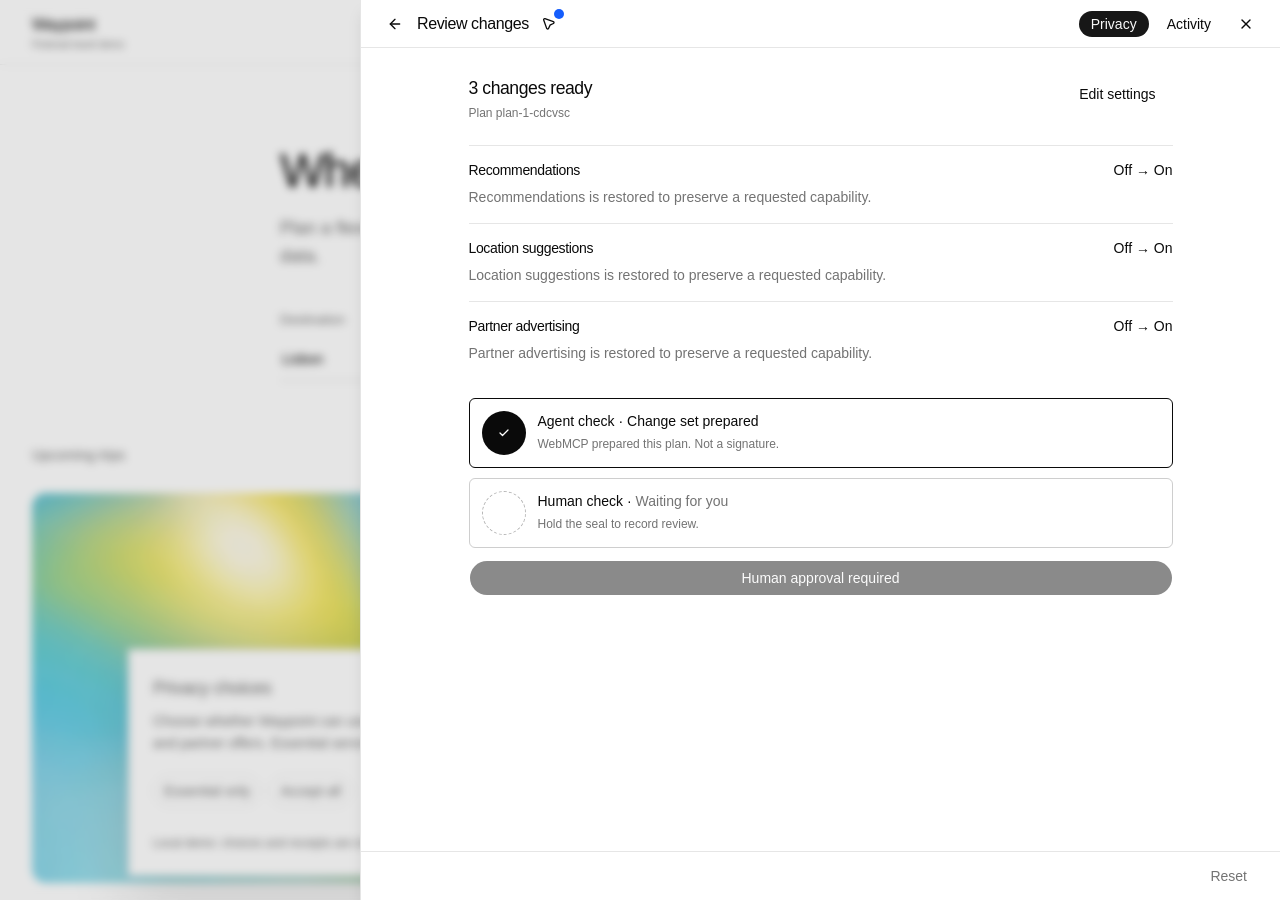
Scenario: privacy settings UI › keeps the agent check when returning to an unchanged plan and revokes it after an edit
The image size is (1280, 900).
Expected: the text "Change set prepared" is shown, [627,413,758,429]
Click the button named "Back": {"x": 395, "y": 24} [381,10,409,38]
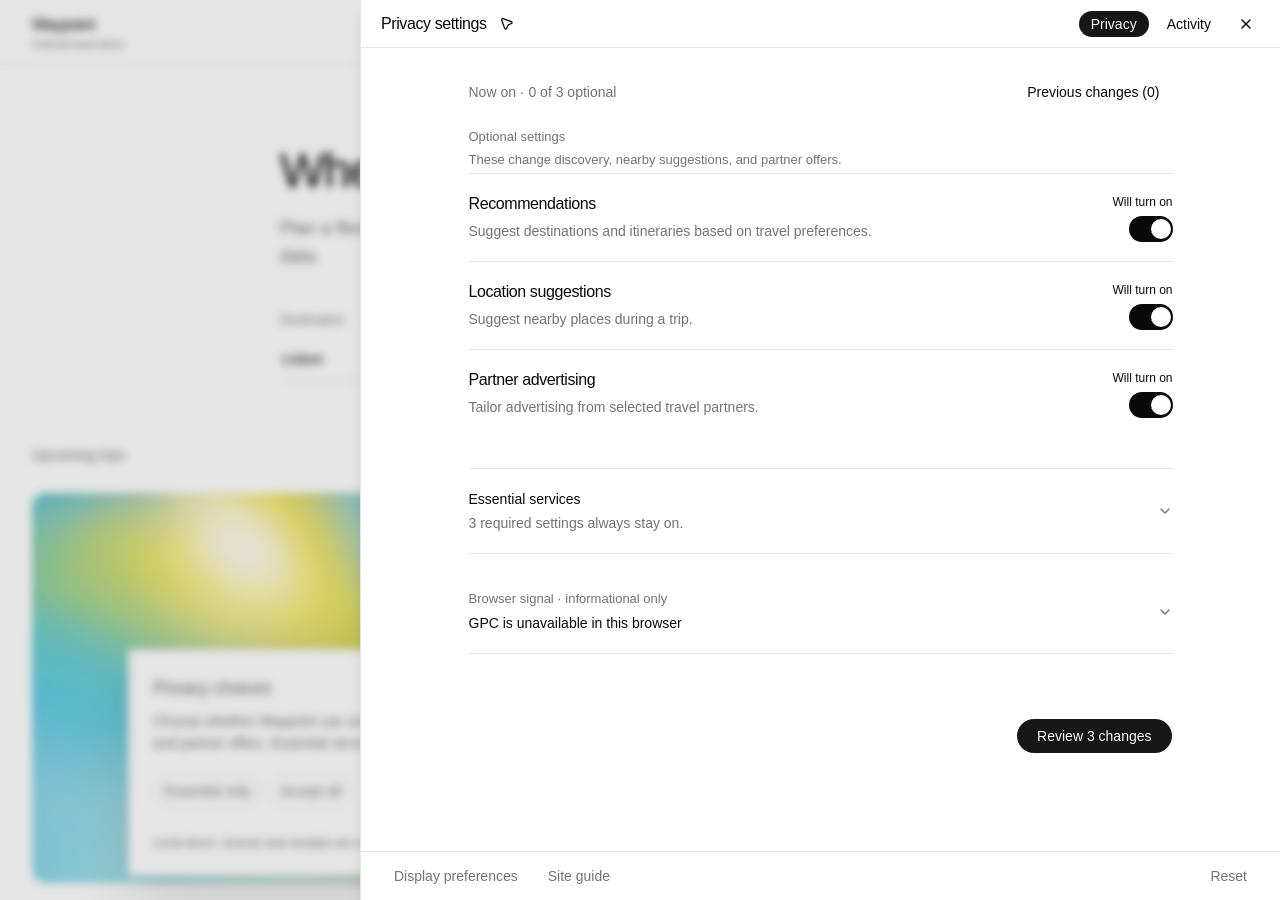
Result: the heading "Privacy settings" is shown at [381,12,487,36]
Click the button "Review 3 changes": {"x": 1094, "y": 736} [1016,718,1172,754]
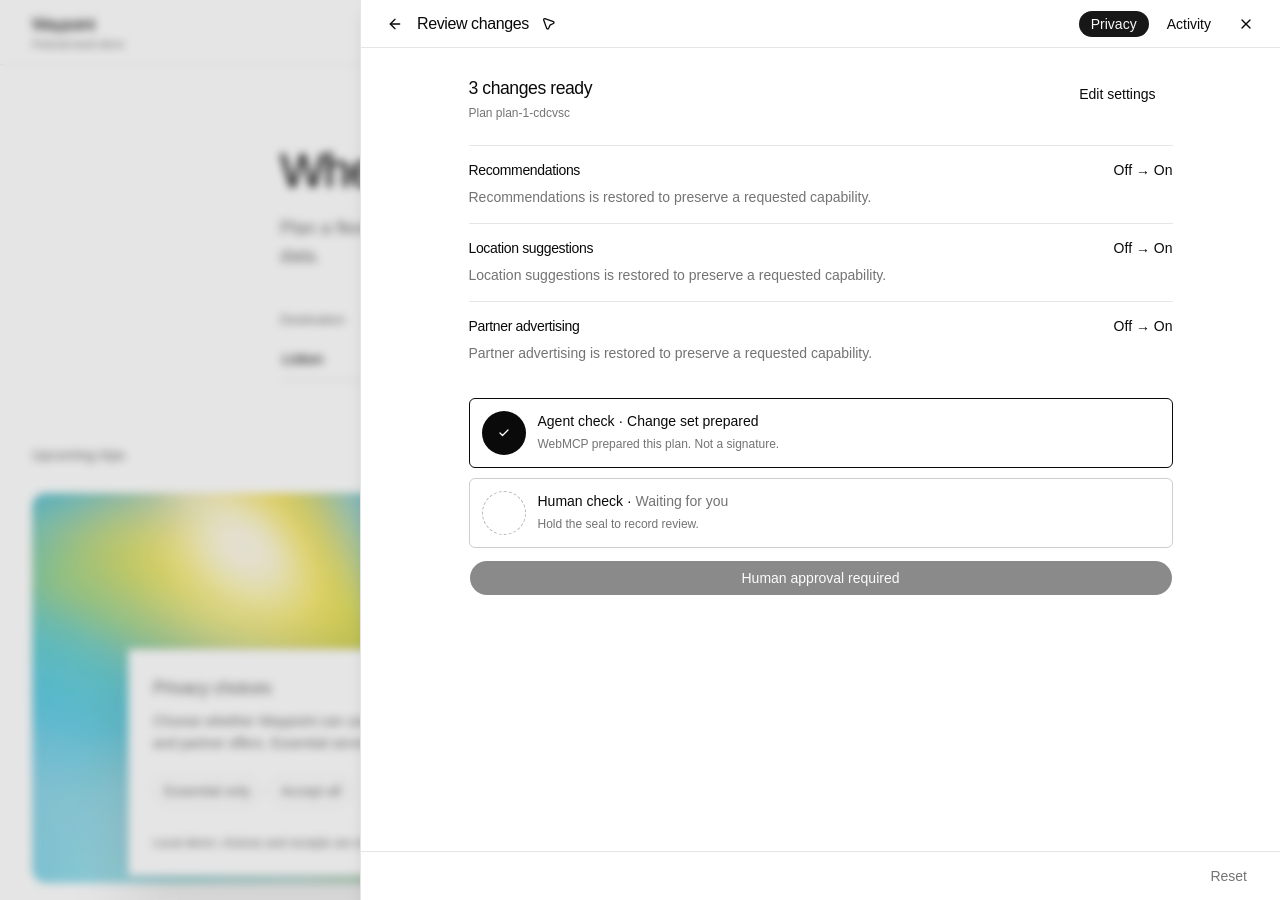
Result: the text "Change set prepared" is shown at [627,413,758,429]
Click the button named "Back": {"x": 395, "y": 24} [381,10,409,38]
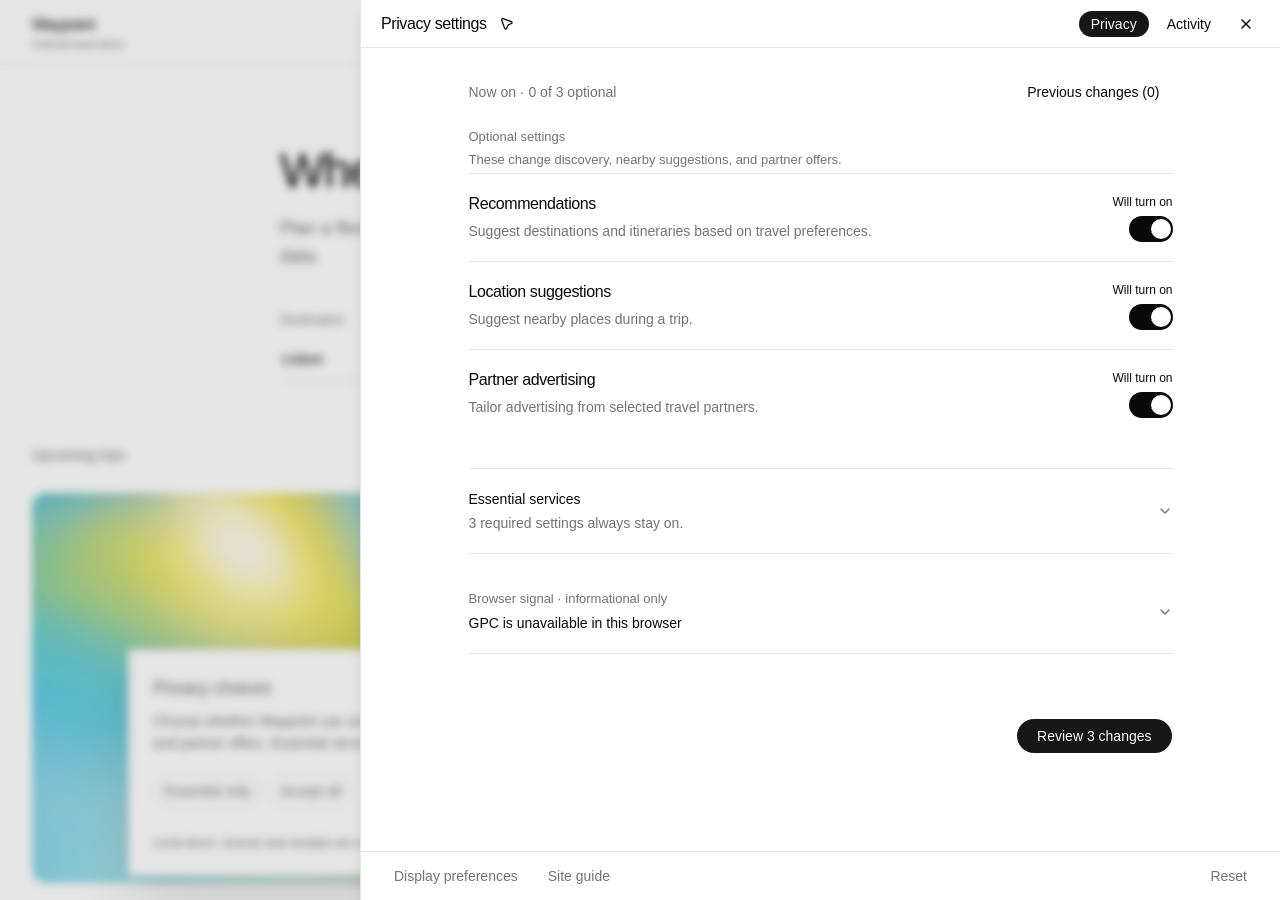
Click the switch named "Partner advertising": {"x": 1150, "y": 405} [1128,392,1172,418]
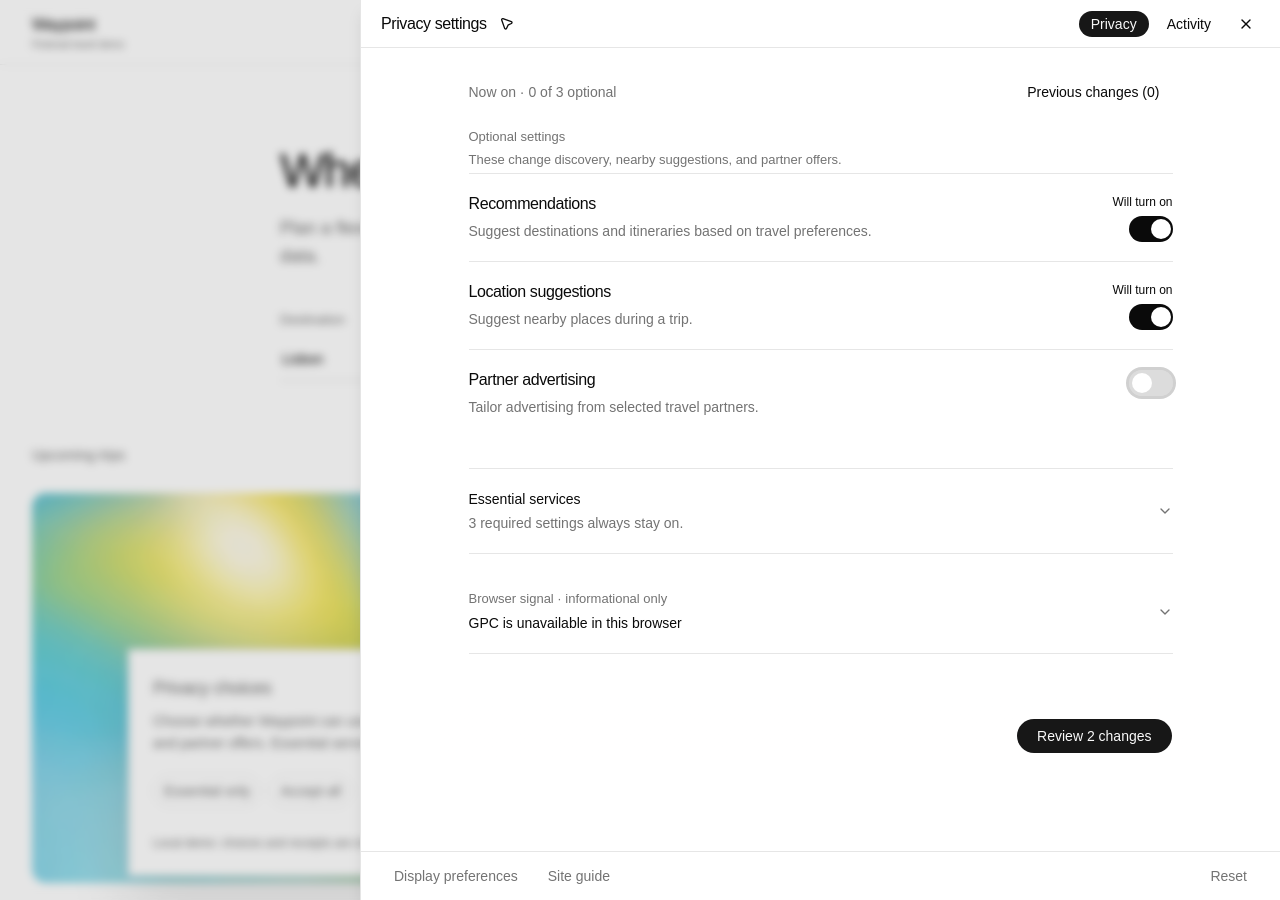
Click the button "Review 2 changes": {"x": 1094, "y": 736} [1016,718,1172,754]
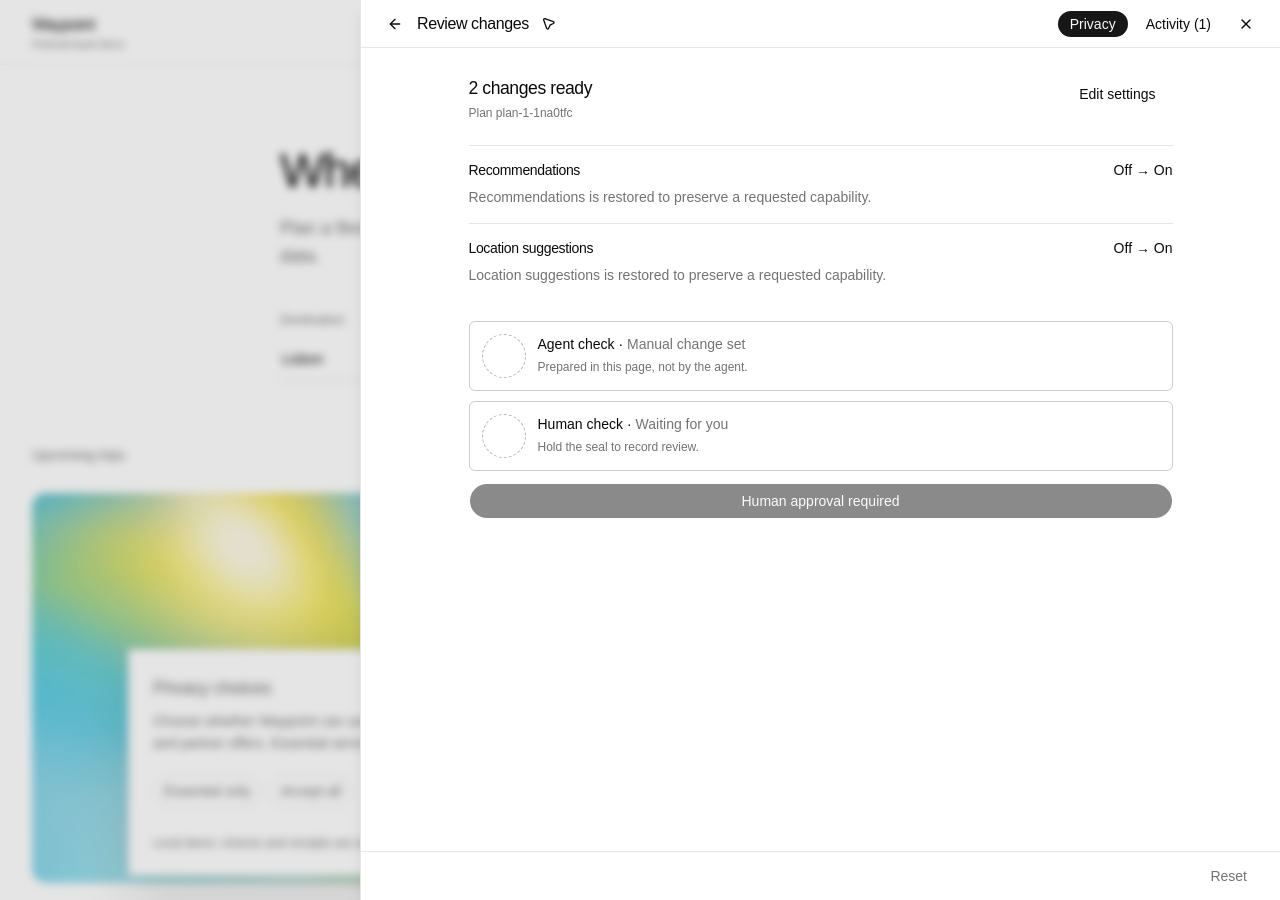
Result: the text "Manual change set" is shown at [627,336,745,352]
